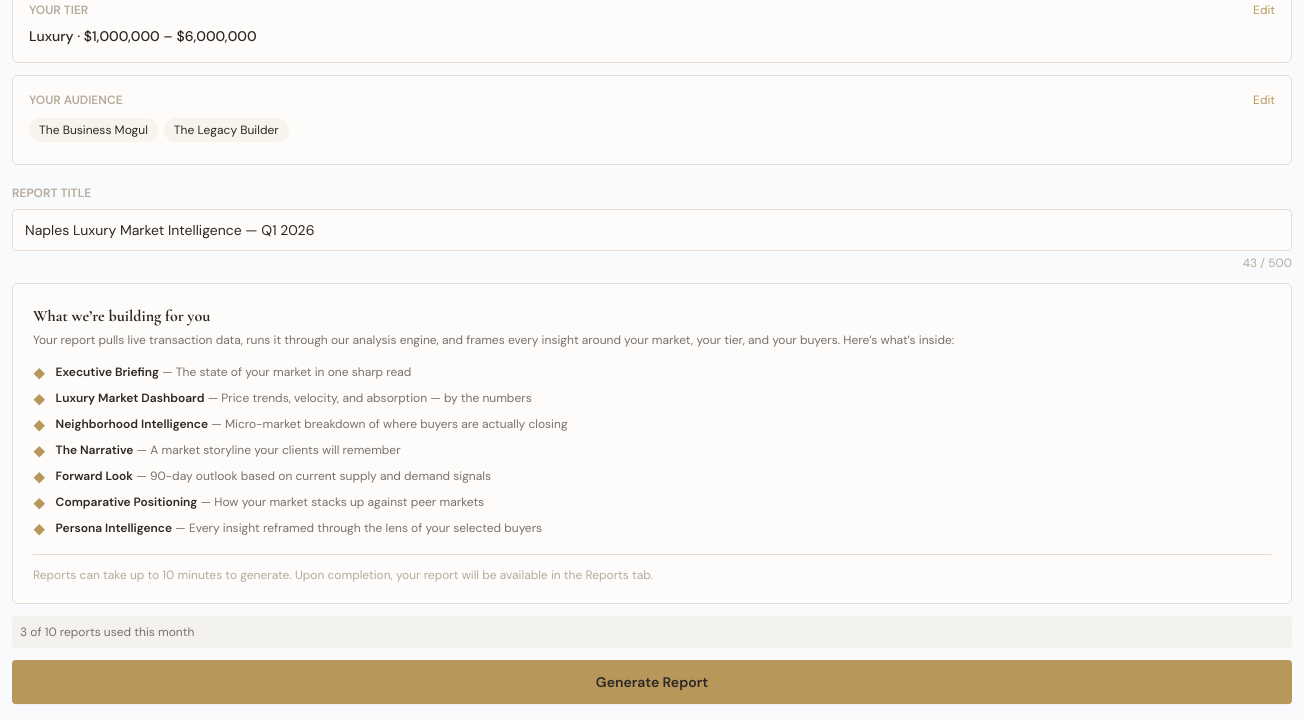
Test case: Step 5: Review & Generate (#156) › StepYourReview › CMP-156-23: shows loading state on generate click
The width and height of the screenshot is (1304, 720).
(page scrolled)
Click the button "Generate Report".
click(652, 682)  # box [12, 660, 1292, 704]
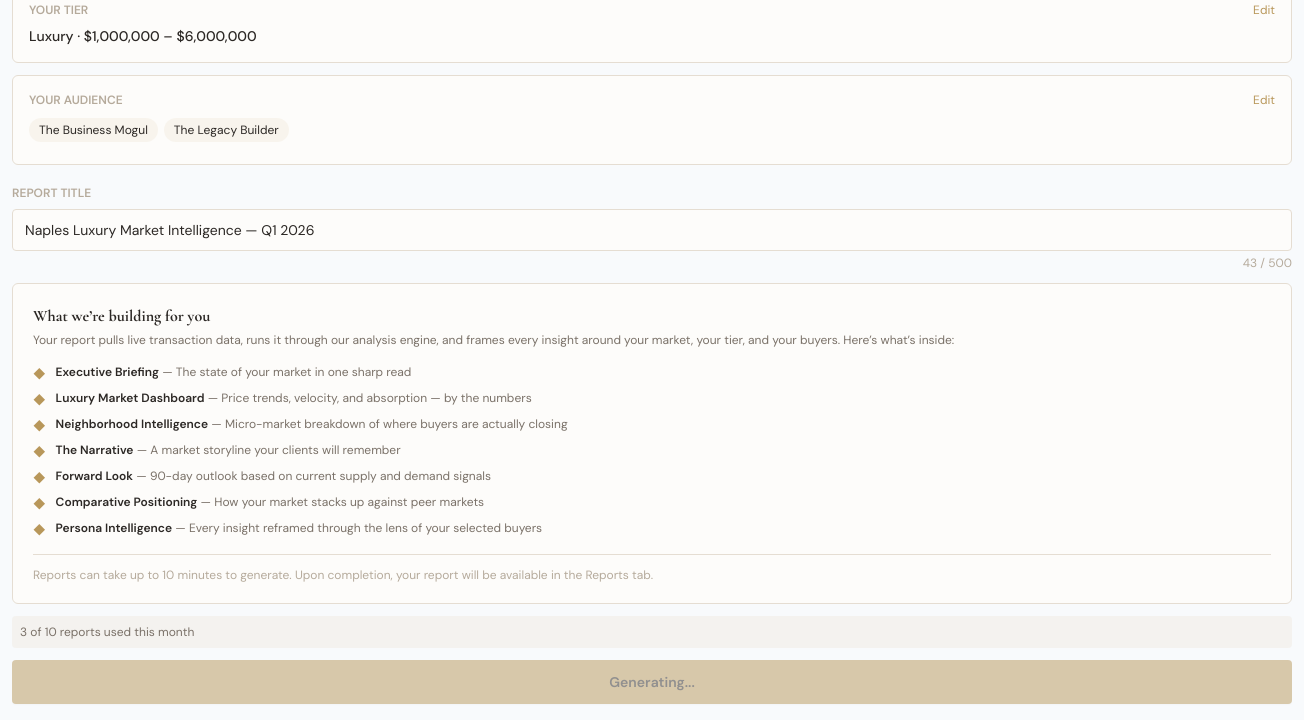
Check: the button "Generating..." is shown, box [12, 660, 1292, 704]
